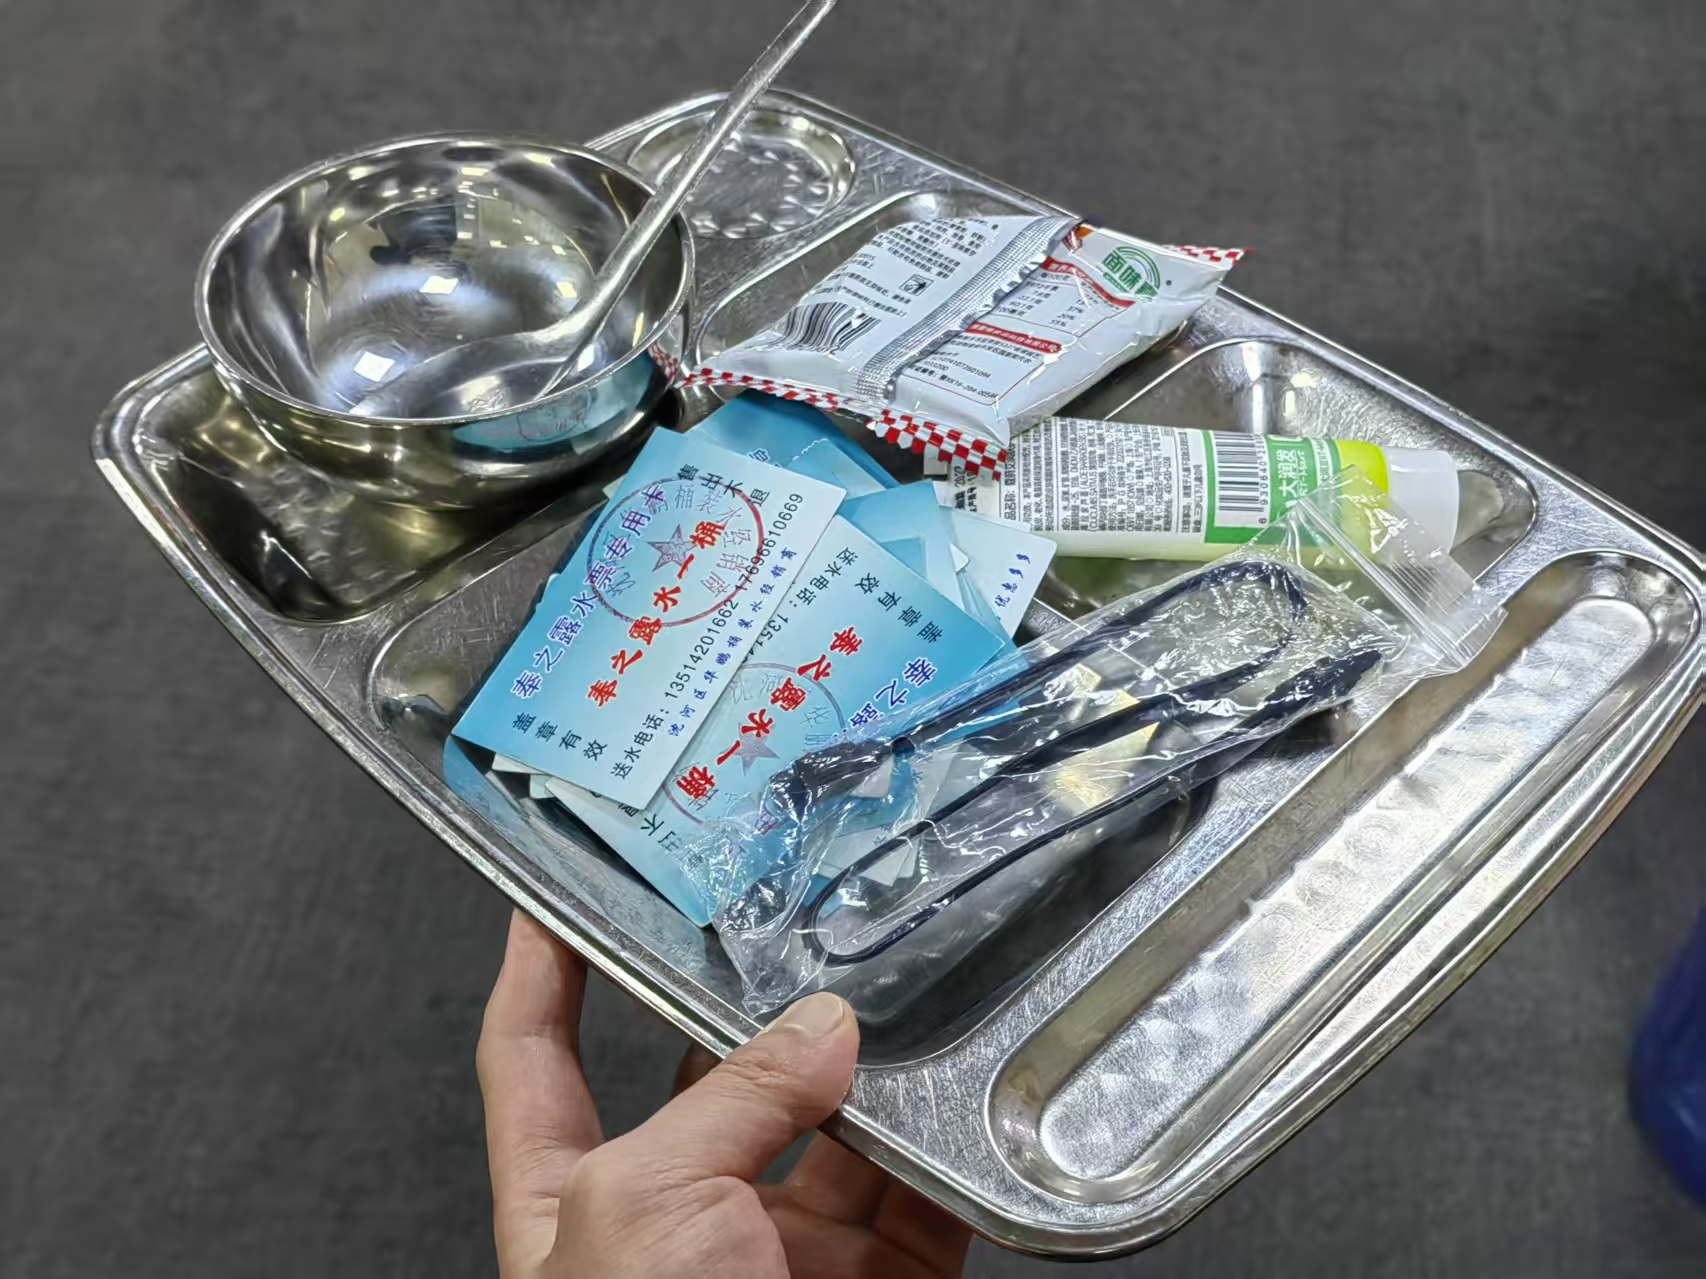plate: (86, 82, 1706, 1263)
severe: (447, 210, 1500, 1018)
